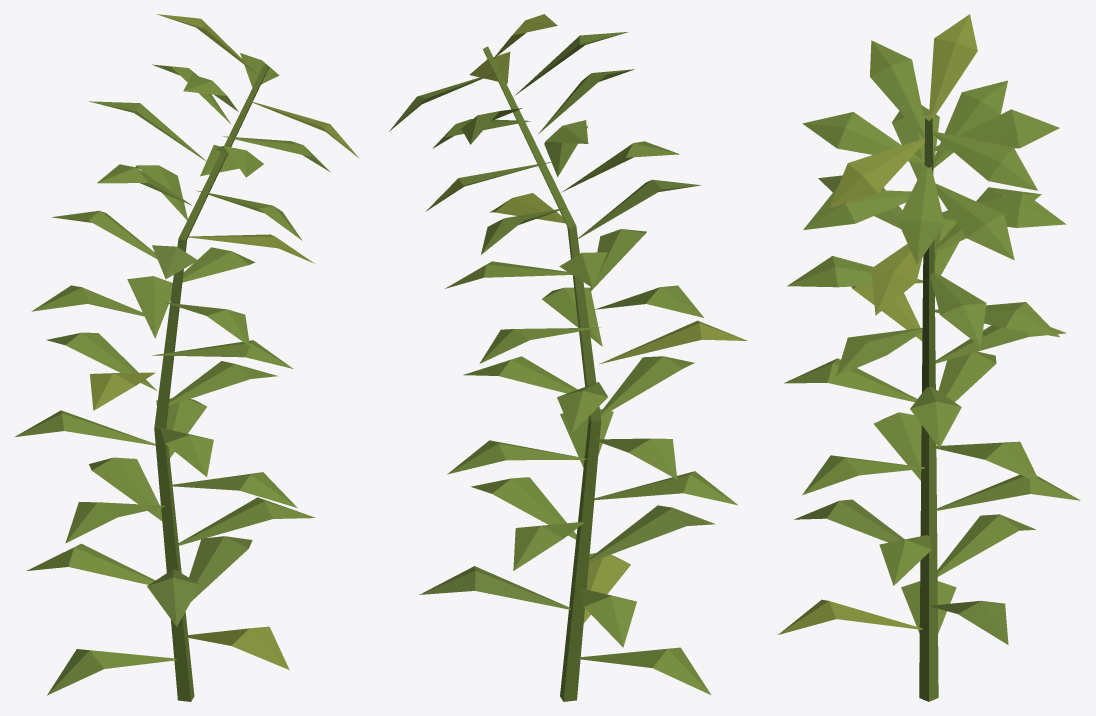
The model's file is Plants_8.fbx.
3 views of the same model, side by side, from view 1: azimuth 30°, elevation 25°; view 2: azimuth 150°, elevation 25°; view 3: azimuth 270°, elevation 25° (orthographic). The views are drawn at different scales.
Parts seen in each view (by area): view 1: Plant_8; view 2: Plant_8; view 3: Plant_8.
Boxes of the visible parts, x1,y1,x2,y2 form: Plant_8: (14,14,359,701); Plant_8: (389,14,747,701); Plant_8: (778,14,1080,701).
Bounding box in the file's own units: 92.31 × 210 × 85.08.
